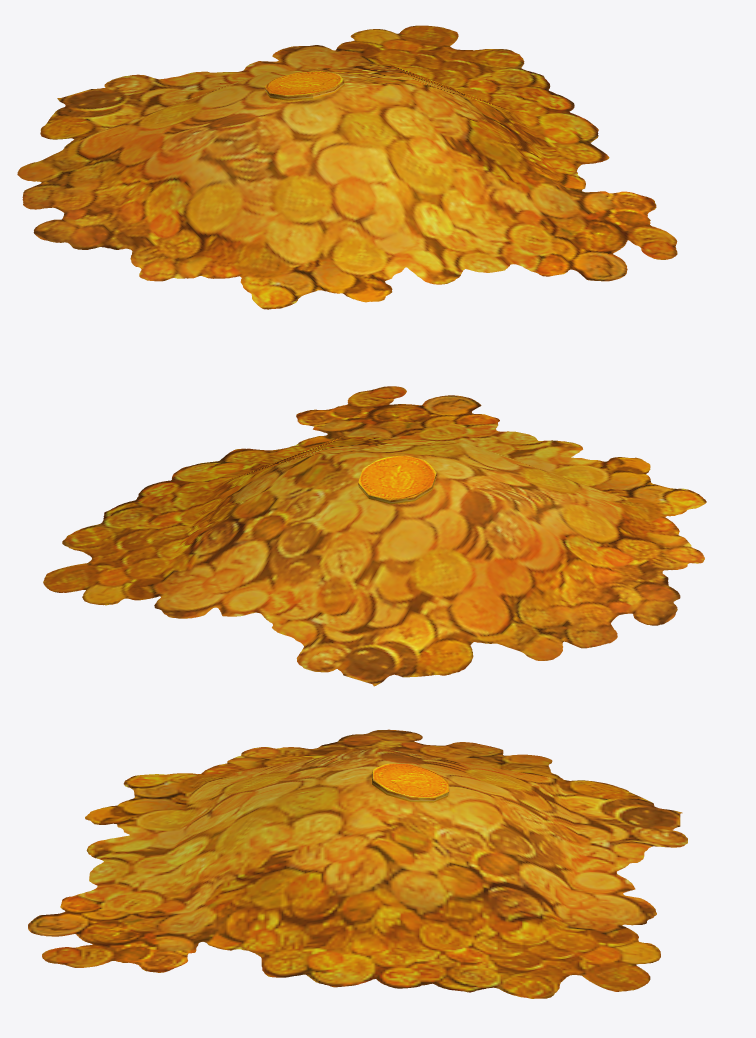
The picture shows the model from 3 angles, top to bottom: view 1: azimuth 30°, elevation 25°; view 2: azimuth 150°, elevation 25°; view 3: azimuth 270°, elevation 25°; orthographic projection. The views are drawn at different scales.
Parts seen in each view (by area): view 1: 293607; view 2: 293607; view 3: 293607.
Part boxes in pixels (x1,y1,x2,y2): 293607: (17,25,677,309); 293607: (43,386,706,686); 293607: (28,729,687,998).
Size of the model in its own units: 109 by 110 by 15.76.
